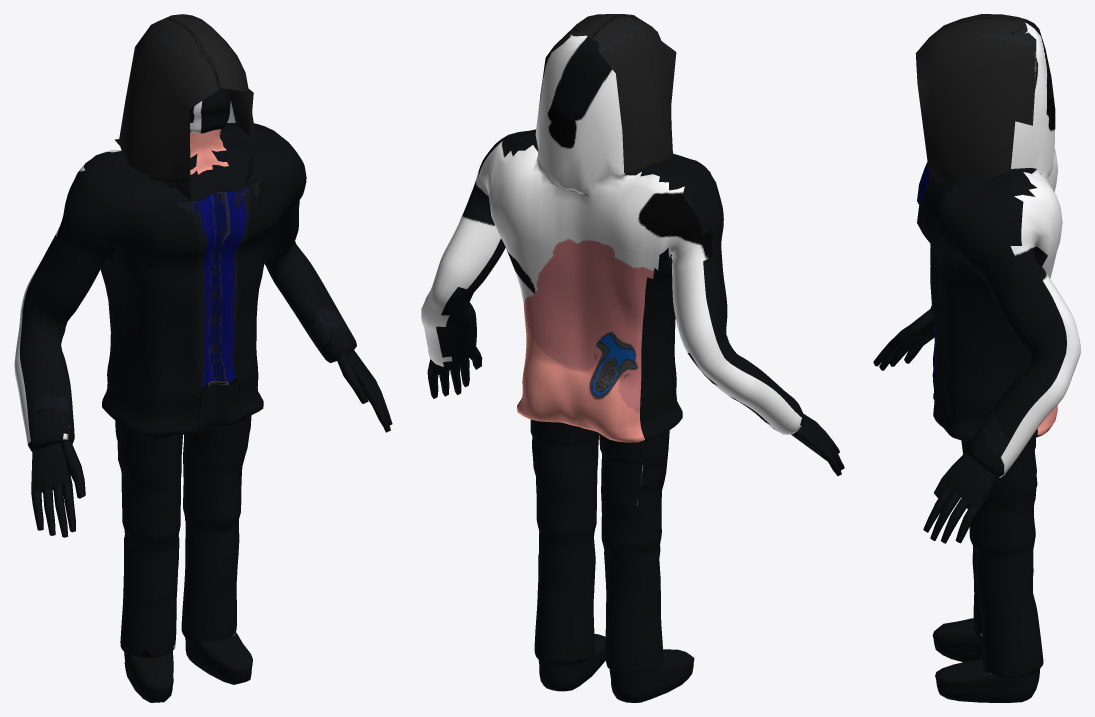
File: keyFrame01.obj
3 renders of one model, left to right at view 1: azimuth 30°, elevation 25°; view 2: azimuth 150°, elevation 25°; view 3: azimuth 270°, elevation 25°, orthographic. The views are drawn at different scales.
Parts seen in each view (by area): view 1: pasted__polySurface71 group4; view 2: pasted__polySurface71 group4; view 3: pasted__polySurface71 group4.
Boxes of the visible parts, x1,y1,x2,y2 form: pasted__polySurface71 group4: [14, 14, 392, 702]; pasted__polySurface71 group4: [421, 14, 844, 702]; pasted__polySurface71 group4: [873, 14, 1080, 702].
Size of the model in its own units: 7.82 by 12.93 by 3.67.
1 material, 1 textured.
